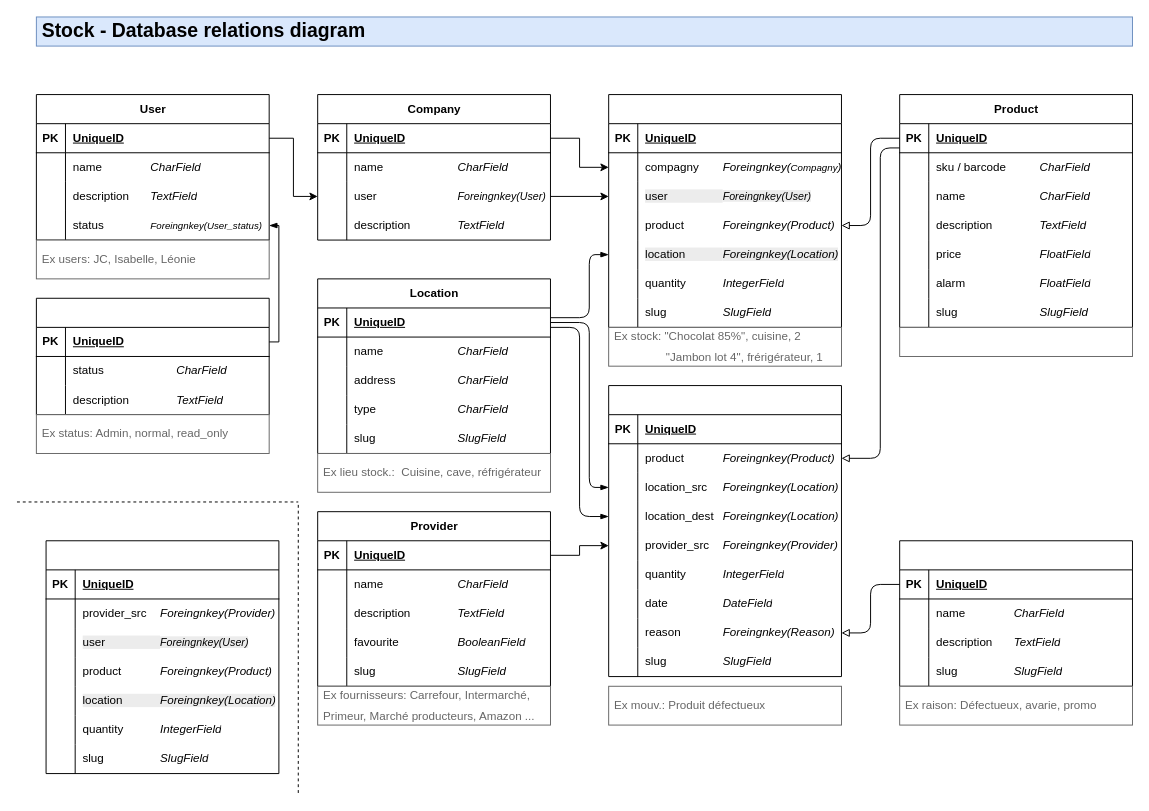
The diagram is 1149 pixels wide and 811 high, and some of its shapes have lost their labels. Each missing label, with the box of its shape:
Ex produits: Chocolat, concerve, jambon: (899, 326, 1132, 356)
Movement: (608, 385, 841, 677)
Reason: (899, 540, 1132, 686)
Shopping_list: (45, 540, 279, 774)
Stock: (608, 94, 841, 327)
User_status: (35, 297, 269, 415)
